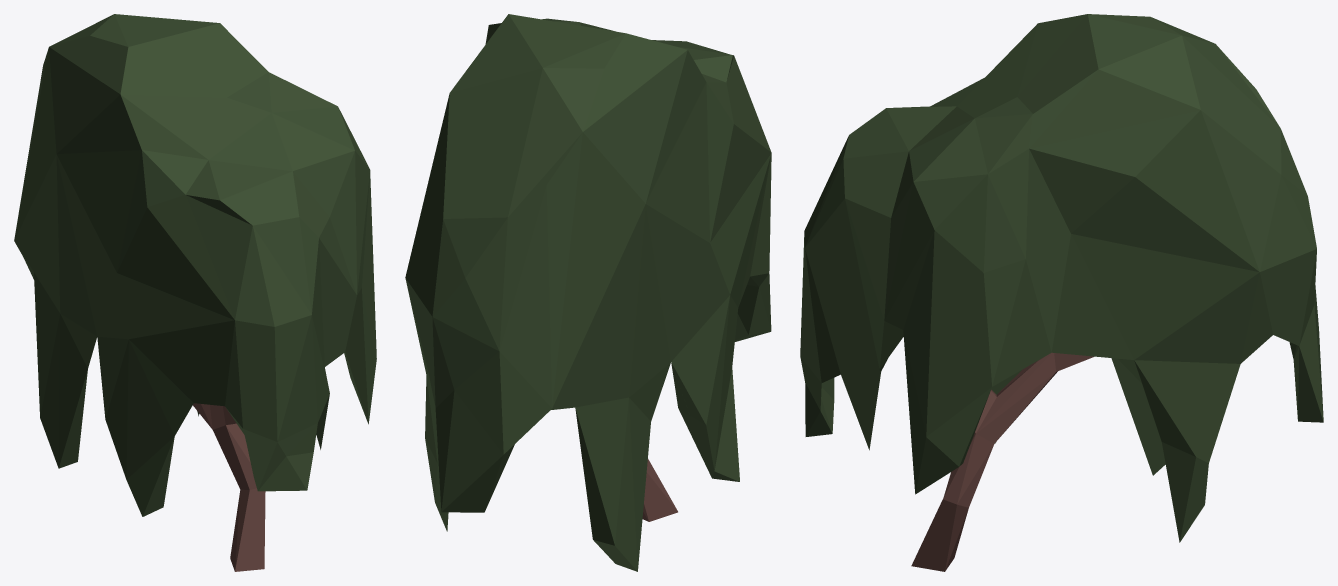
Rendered from willow-tree-1.gltf.
3 renders of one model, left to right at view 1: azimuth 30°, elevation 25°; view 2: azimuth 150°, elevation 25°; view 3: azimuth 270°, elevation 25°, orthographic. The views are drawn at different scales.
Parts seen in each view (by area): view 1: Willow_1_Cube.010; view 2: Willow_1_Cube.010; view 3: Willow_1_Cube.010.
Part boxes in pixels (x1,y1,x2,y2): Willow_1_Cube.010: [14, 14, 376, 571]; Willow_1_Cube.010: [405, 14, 771, 571]; Willow_1_Cube.010: [800, 14, 1323, 571].
Bounding box in the file's own units: 0.0143 × 0.0281 × 0.0255.
